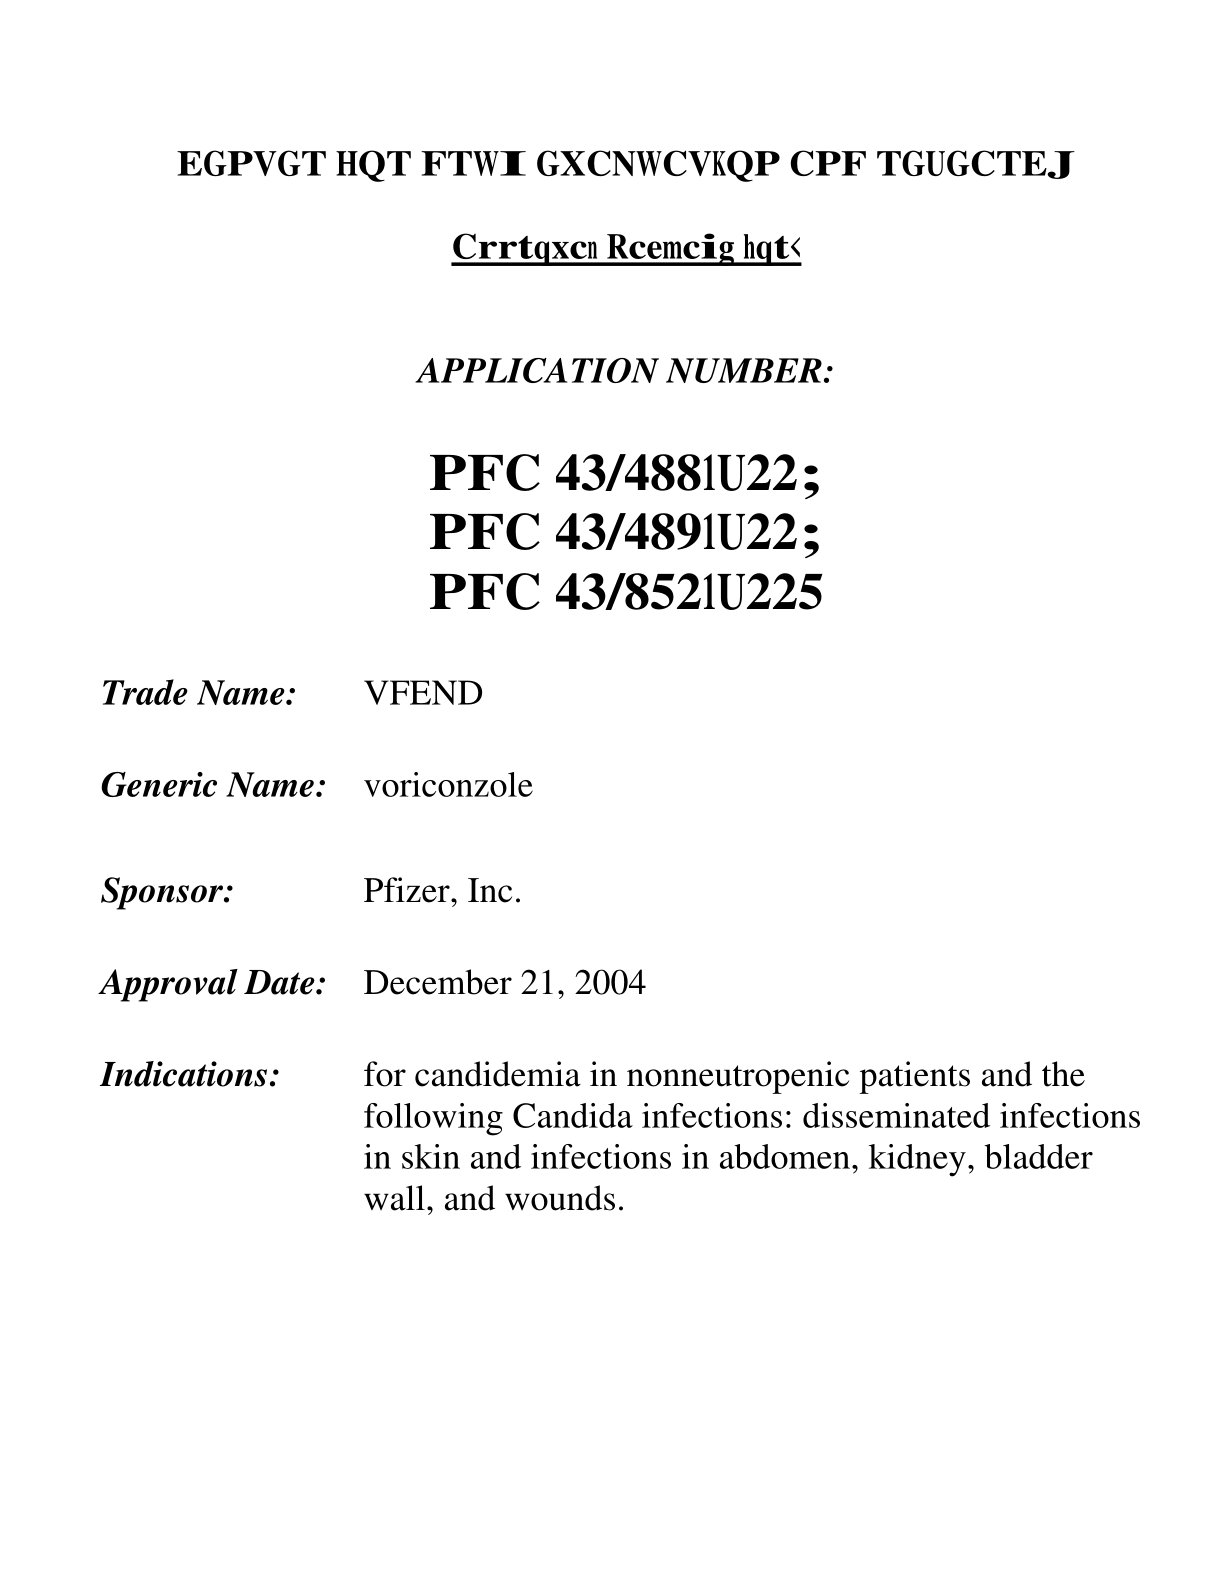nolines: (95, 672, 1138, 1214)
